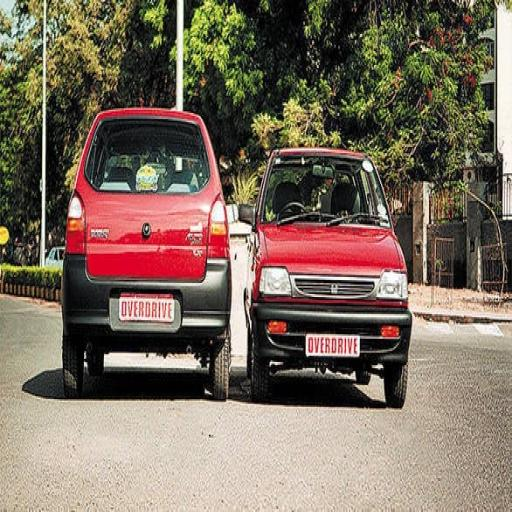License: (305, 328, 363, 364), (117, 292, 178, 324)
